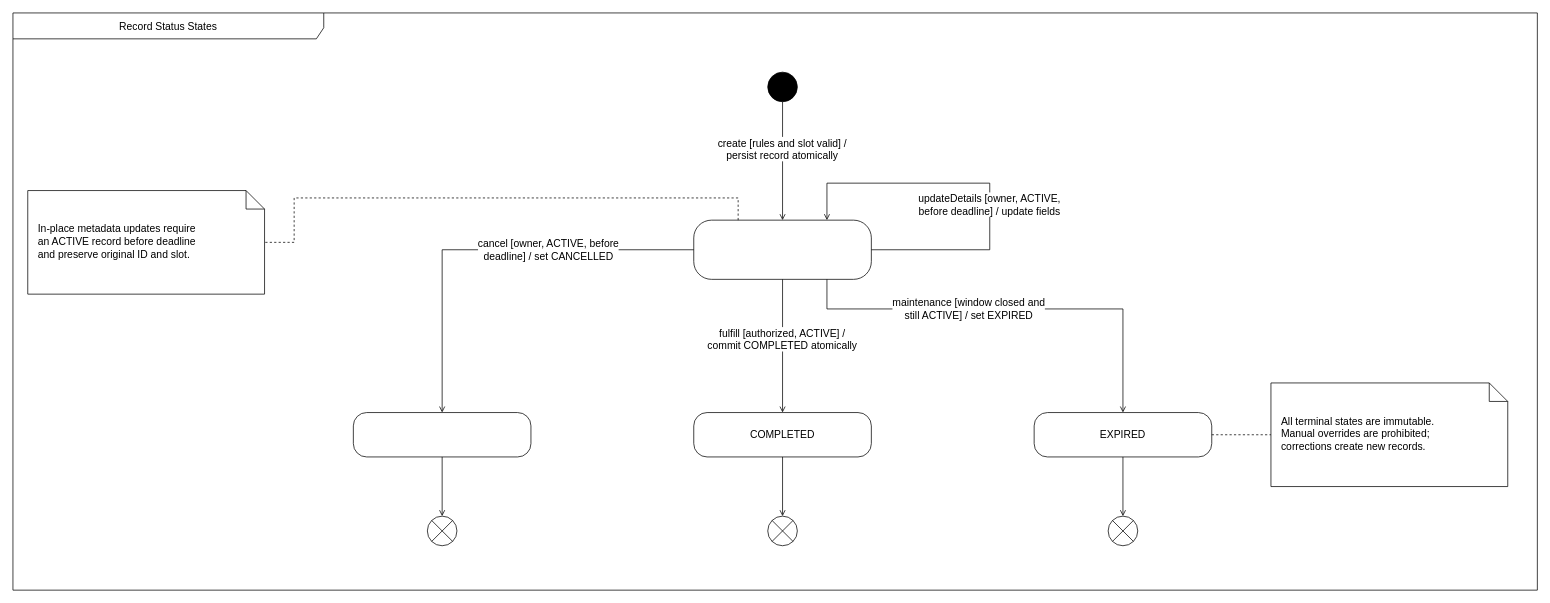
Image size: 1550x603. Some labels were removed from this diagram. Each missing label, with the centre of its shape:
"ACTIVE" goes at (782,249).
"CANCELLED" goes at (442,434).
